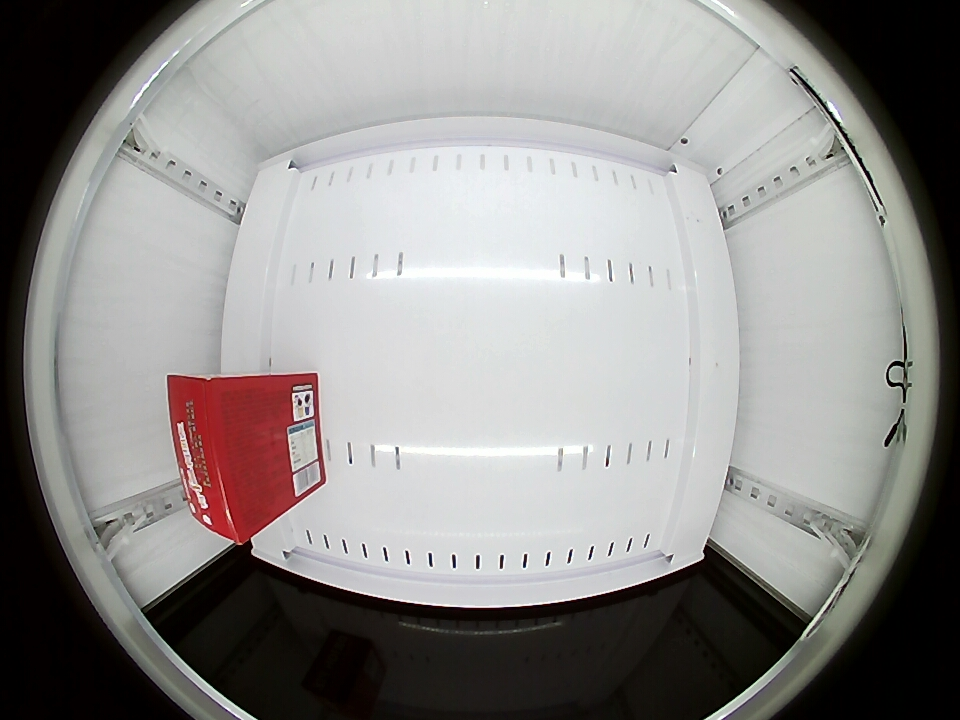haoliyou: (168, 375, 290, 544)
